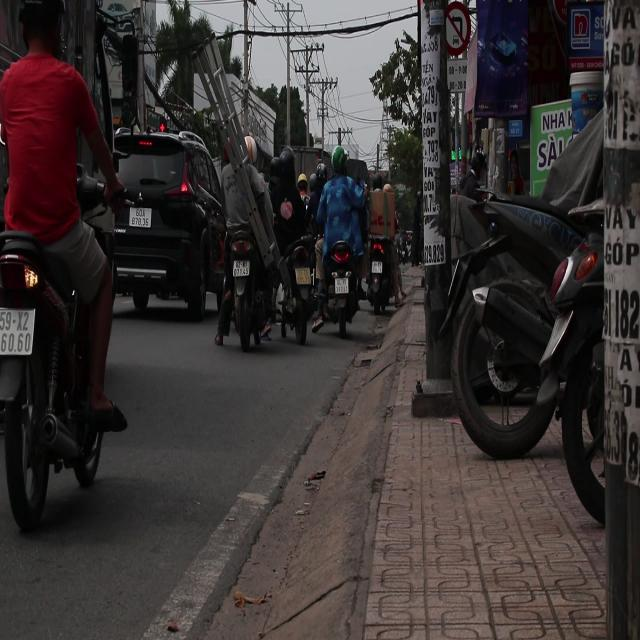car: (107, 131, 229, 321)
motorbike: (0, 222, 122, 526), (312, 149, 368, 340), (220, 190, 272, 360), (270, 188, 319, 342), (367, 206, 407, 324)
